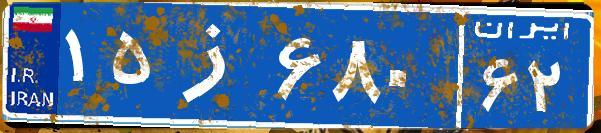0: (385, 28, 445, 110)
1: (57, 26, 110, 107)
2: (525, 38, 570, 115)
5: (110, 28, 158, 105)
6: (273, 28, 330, 110), (475, 38, 525, 113)
8: (330, 28, 385, 110)
ز: (158, 15, 273, 115)
